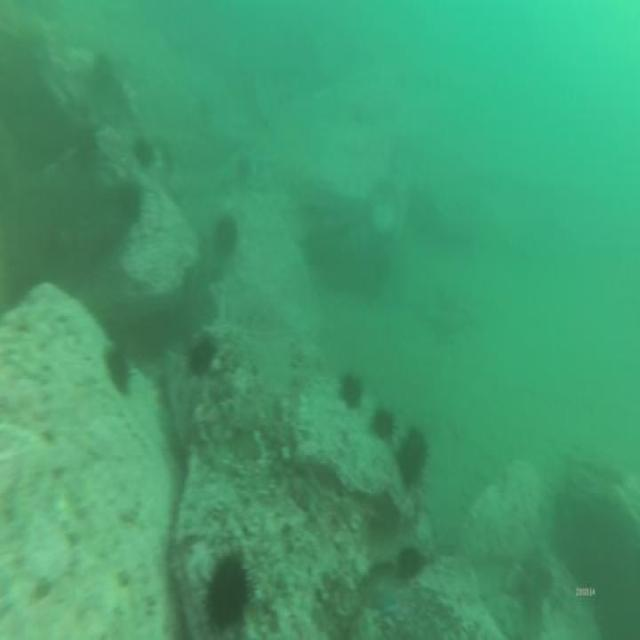echinus: (204, 561, 246, 626), (397, 428, 426, 485), (115, 182, 142, 221), (105, 349, 128, 392), (190, 335, 213, 373), (217, 215, 236, 256), (398, 545, 422, 577), (372, 404, 392, 438), (339, 376, 361, 406), (136, 141, 154, 166)
